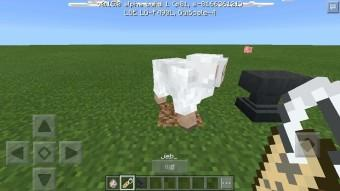sheep: (152, 52, 229, 129)
